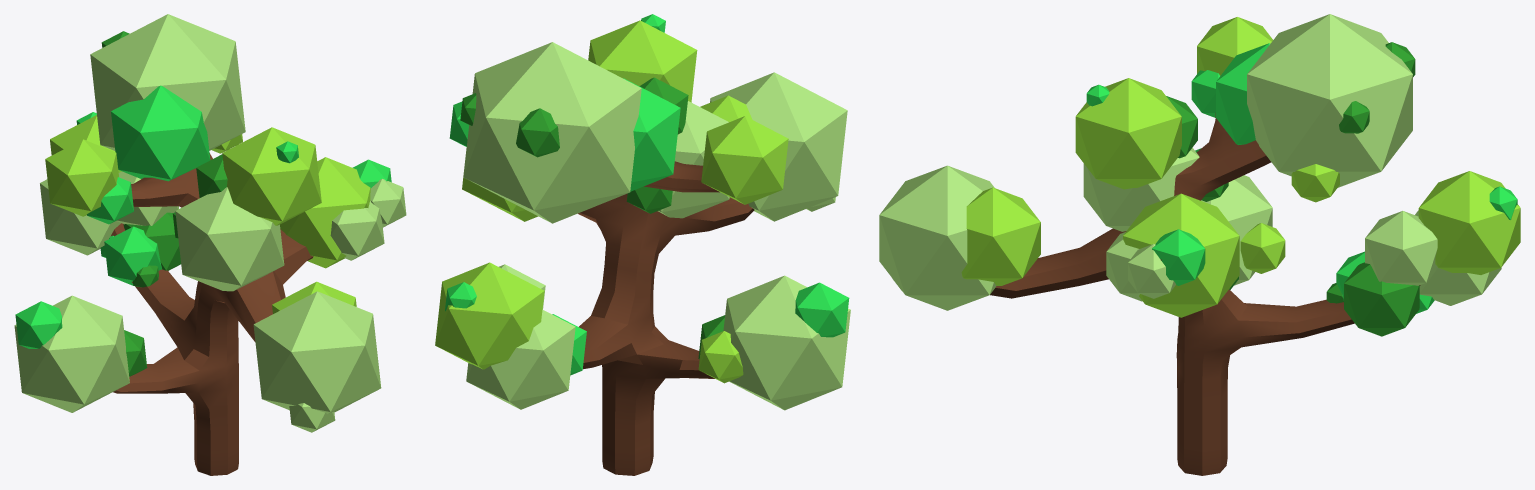
The model's file is tree-1.fbx.
3 views of the same model, side by side, from view 1: azimuth 30°, elevation 25°; view 2: azimuth 150°, elevation 25°; view 3: azimuth 270°, elevation 25° (orthographic). The views are drawn at different scales.
Parts seen in each view (by area): view 1: Cube; view 2: Cube; view 3: Cube.
Boxes of the visible parts, x1,y1,x2,y2 form: Cube: (14, 14, 406, 475); Cube: (435, 14, 850, 475); Cube: (879, 14, 1520, 475).
Bounding box in the file's own units: 844 × 922 × 1171.
